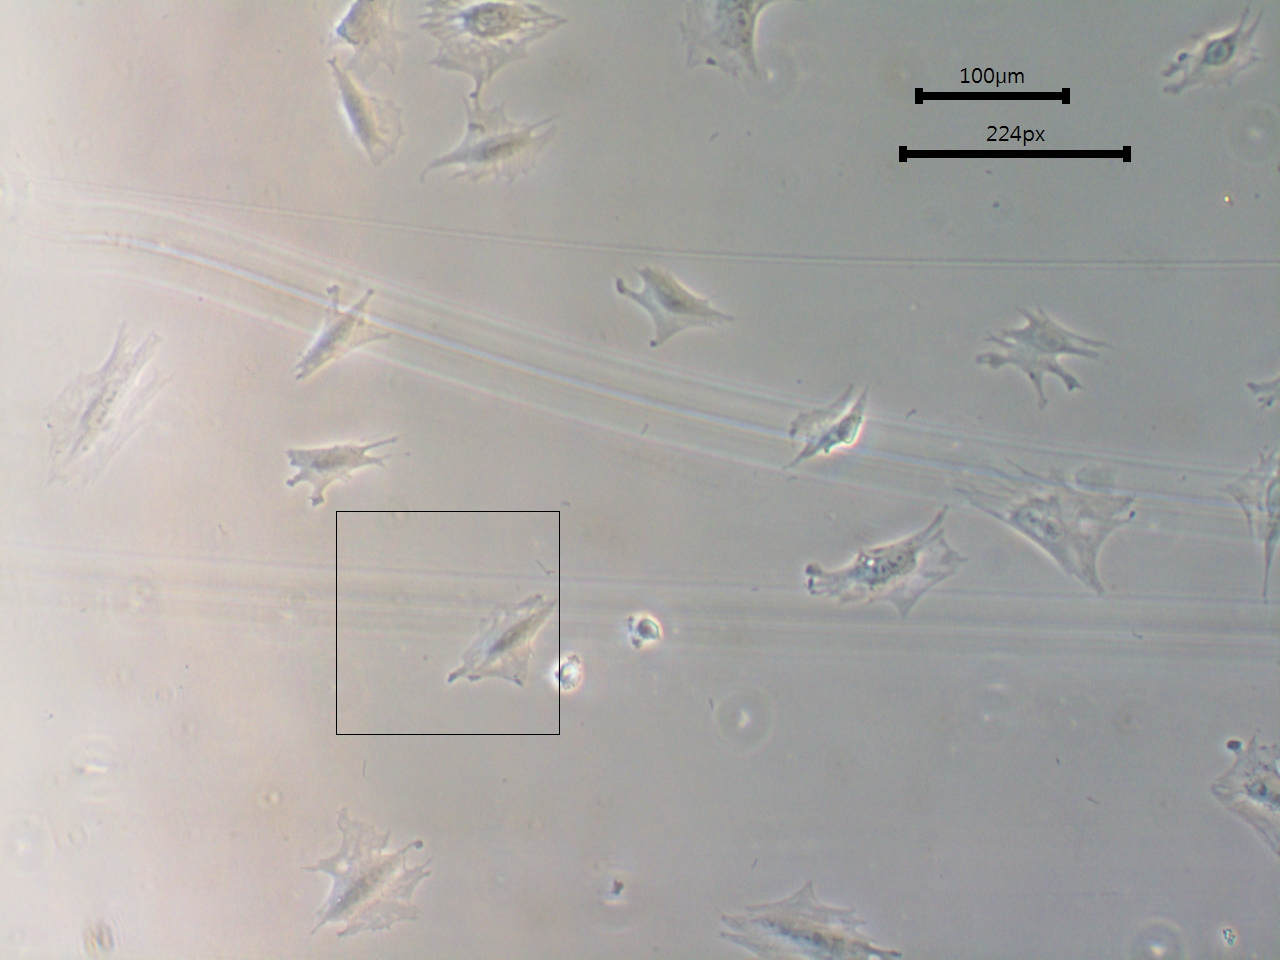dividing: (956, 452, 1169, 602), (797, 502, 961, 637)
medium-polygonal: (611, 260, 751, 355), (285, 275, 393, 394)
medium-spread: (309, 808, 470, 939), (979, 301, 1117, 418), (410, 94, 556, 188)
small-polygonal: (274, 433, 405, 508)
small-round: (625, 614, 680, 652)
